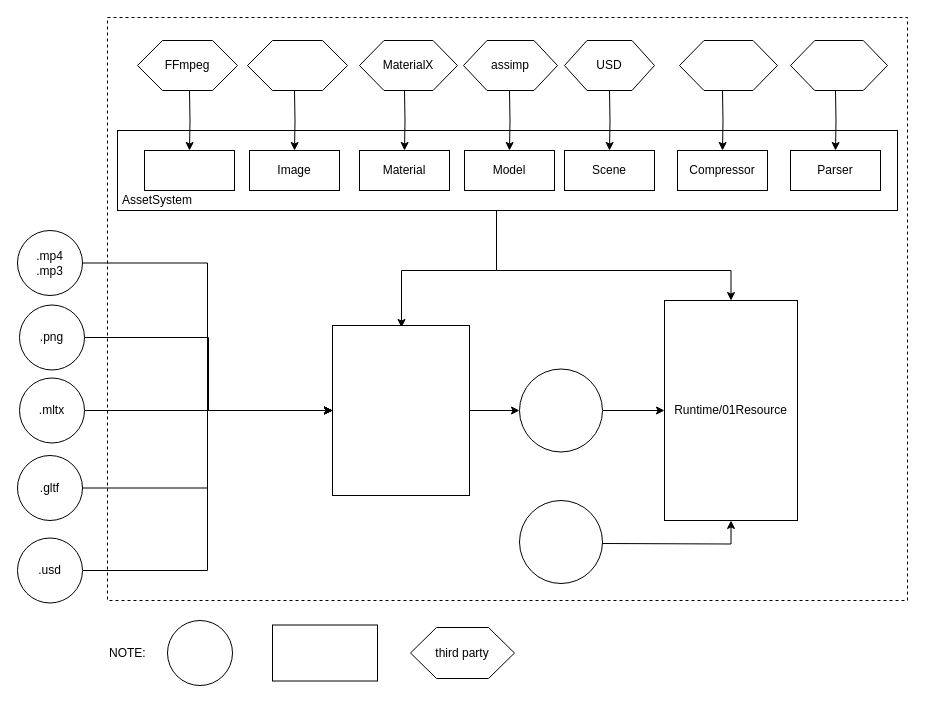
Some shapes in this 925 by 703 pixel diagram are drawn without their labels. Here are the shapes that lost their labels. From the top down, the centre of each, then its label:
At point 297,65: "stb_image".
At point 728,65: "LZ4".
At point 839,65: "Json mINI".
At point 189,170: "AV".
At point 401,410: "Tools/AssetConverter".
At point 560,410: ".json + .asset".
At point 560,542: ".ini".
At point 199,653: "file".
At point 325,652: "source library".
